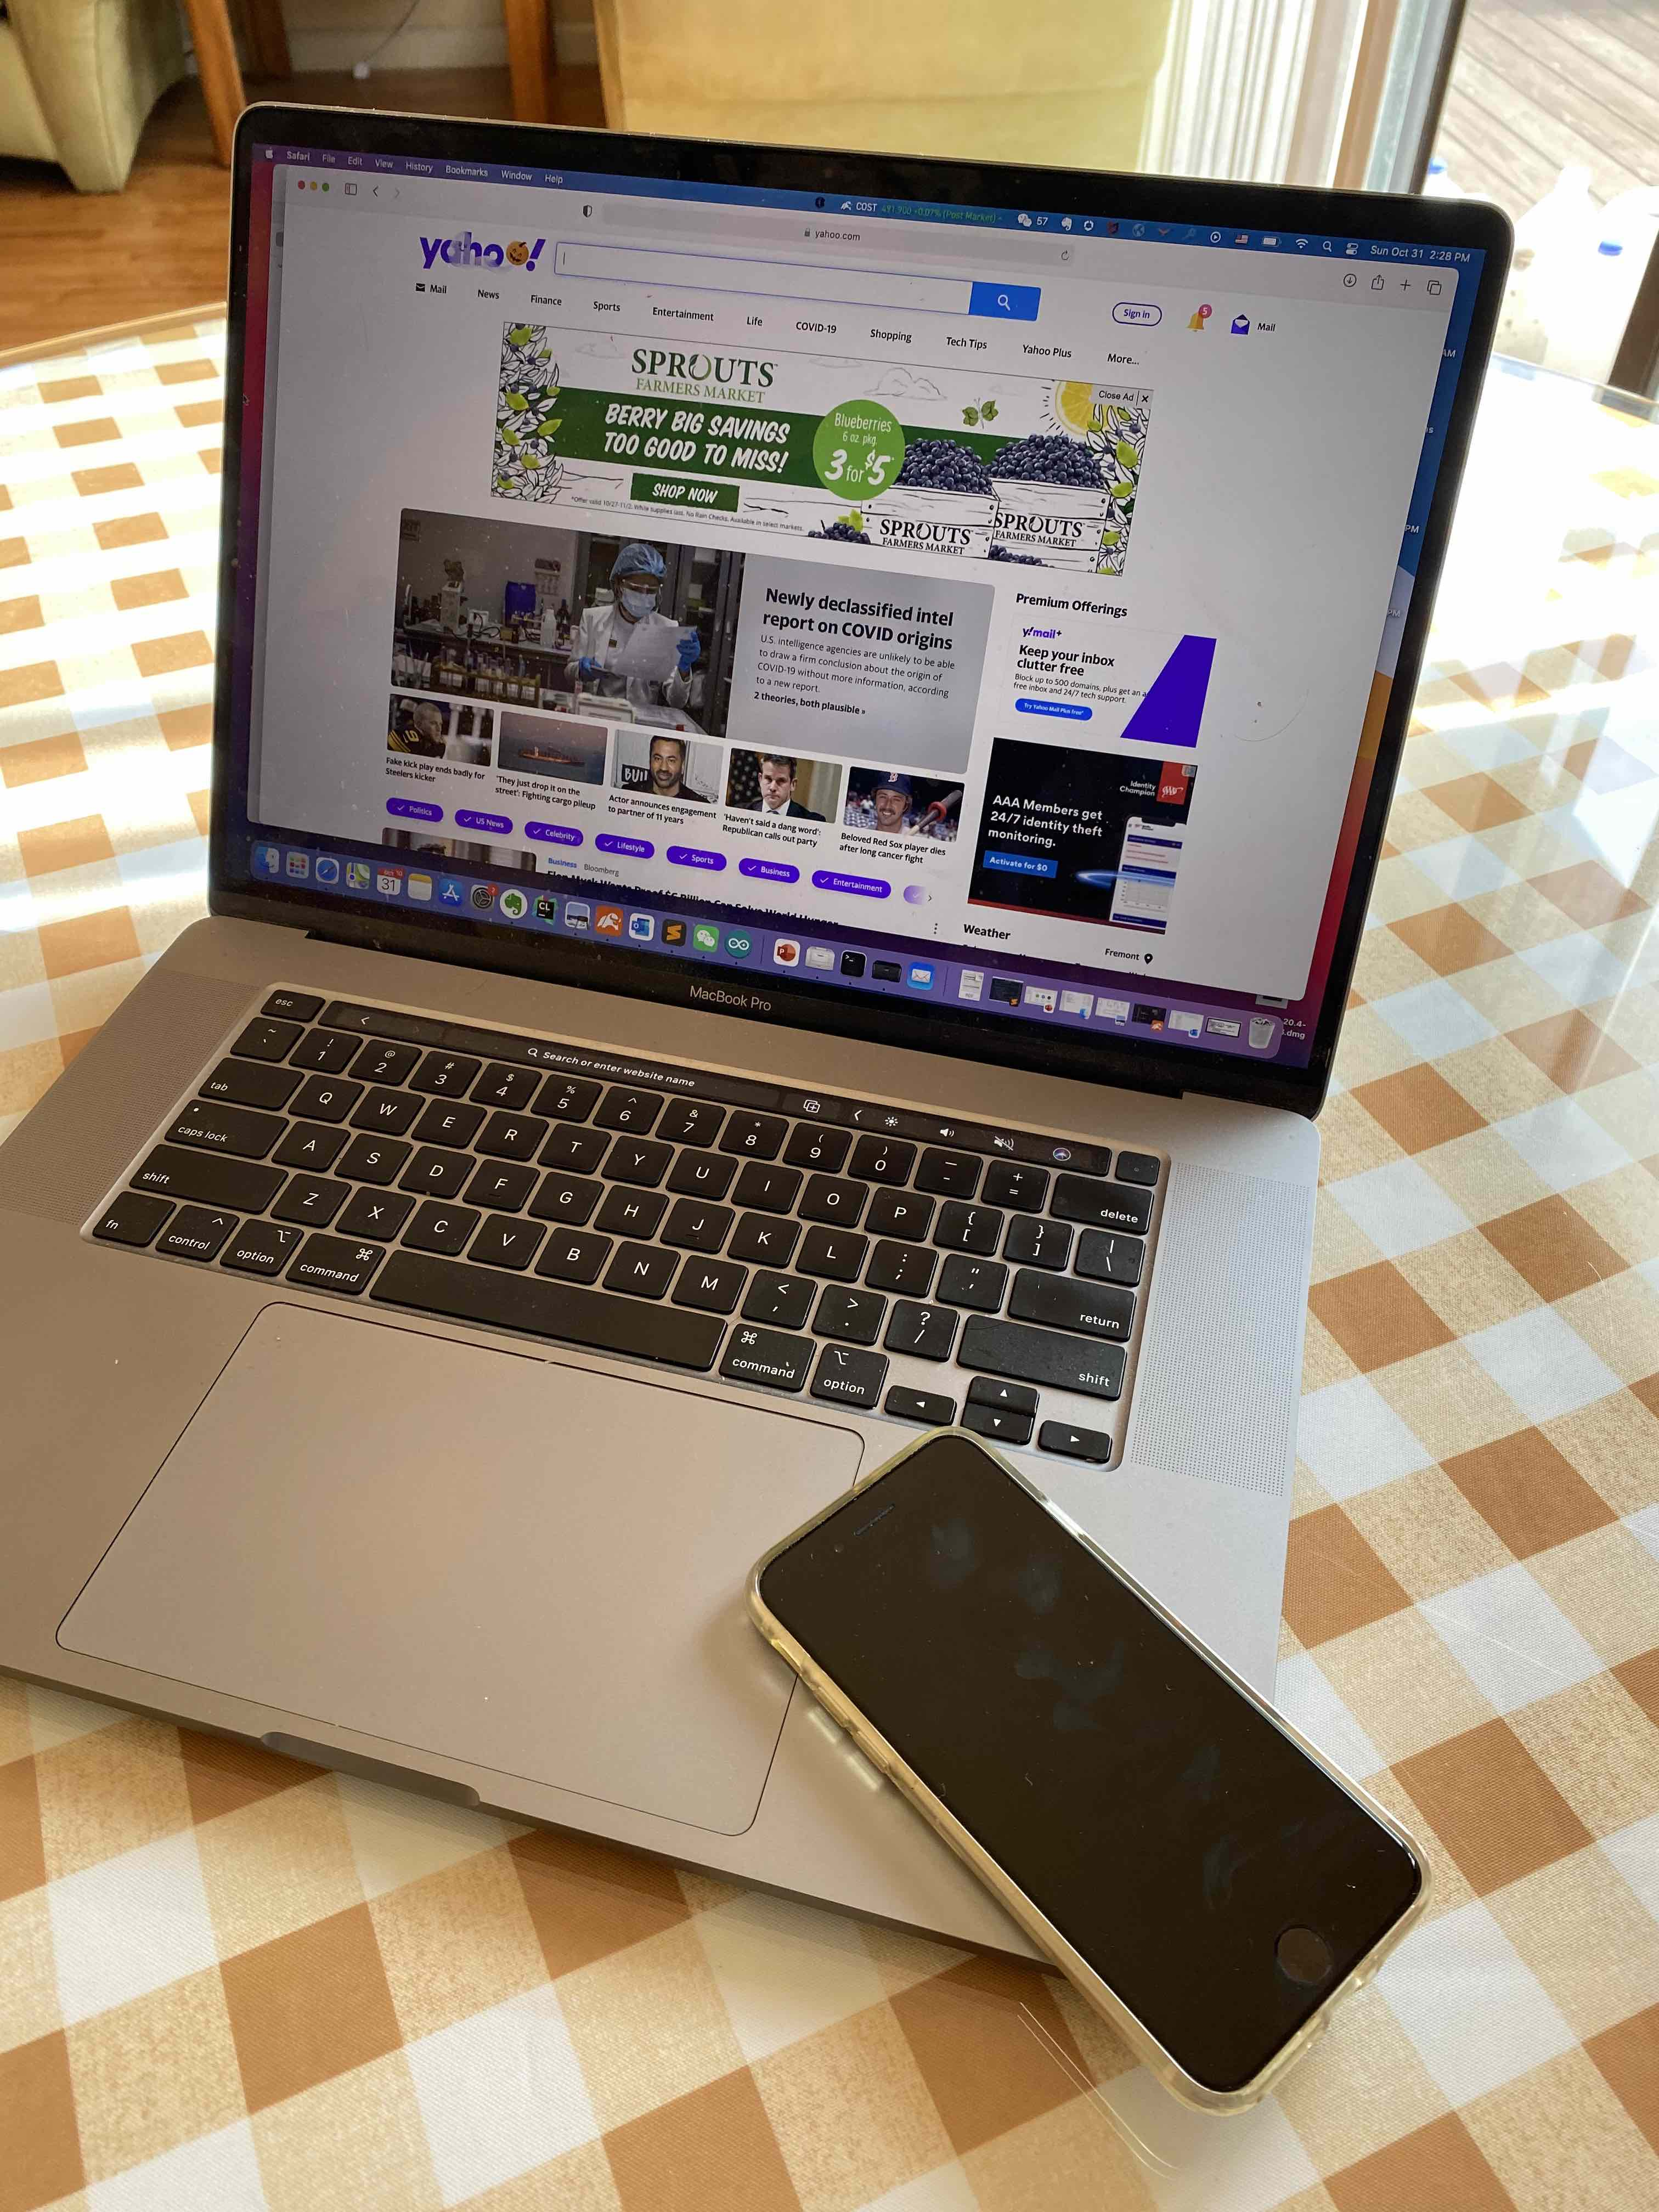Cell Phone: (749, 1440, 1427, 2111)
